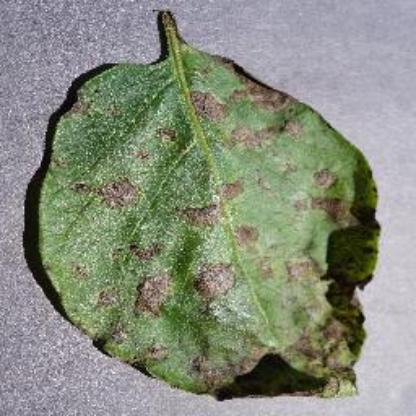Early-Blight: (31, 5, 380, 397)
